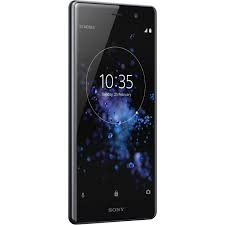sony: (66, 1, 159, 225)
